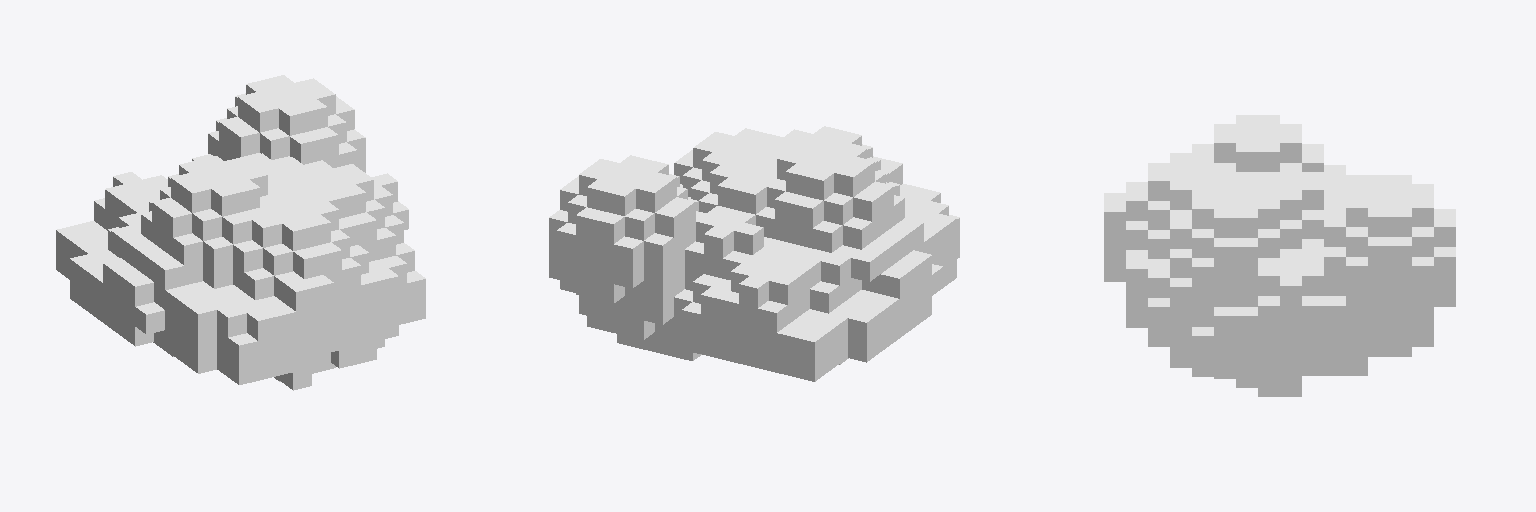
3 renders of one model, left to right at view 1: azimuth 30°, elevation 25°; view 2: azimuth 150°, elevation 25°; view 3: azimuth 270°, elevation 25°, orthographic.
Visible parts, largest first — view 1: object 1; view 2: object 1; view 3: object 1.
Boxes of the visible parts, <box> form: object 1: <box>56,75,425,390</box>; object 1: <box>549,126,959,381</box>; object 1: <box>1104,115,1455,396</box>.
Size of the model in its own units: 1.5 by 1 by 1.6.
1 materials, 1 textured.